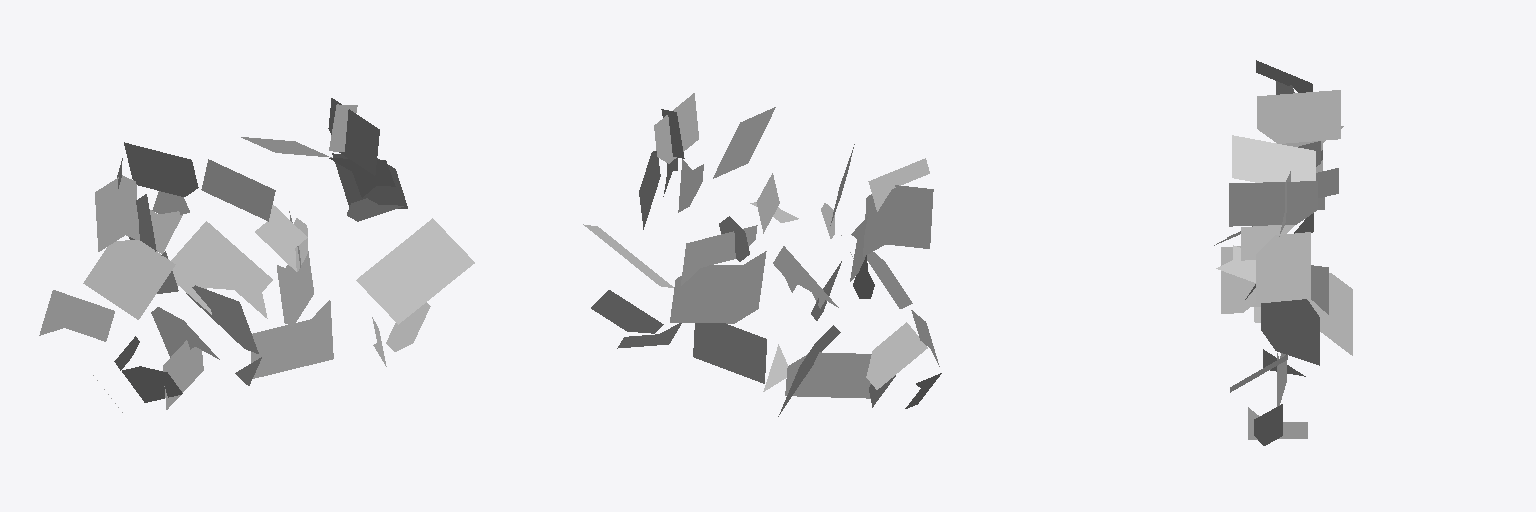
Rendered from warning0001.obj.
The picture shows the model from 3 angles: view 1: azimuth 30°, elevation 25°; view 2: azimuth 150°, elevation 25°; view 3: azimuth 270°, elevation 25°; orthographic projection.
Parts seen in each view (by area): view 1: warning; view 2: warning; view 3: warning.
Part boxes in pixels (x1,y1,x2,y2): warning: (39,98,474,412); warning: (583,93,941,416); warning: (1214,60,1352,445).
Bounding box in the file's own units: 1.67 × 1.05 × 0.543.